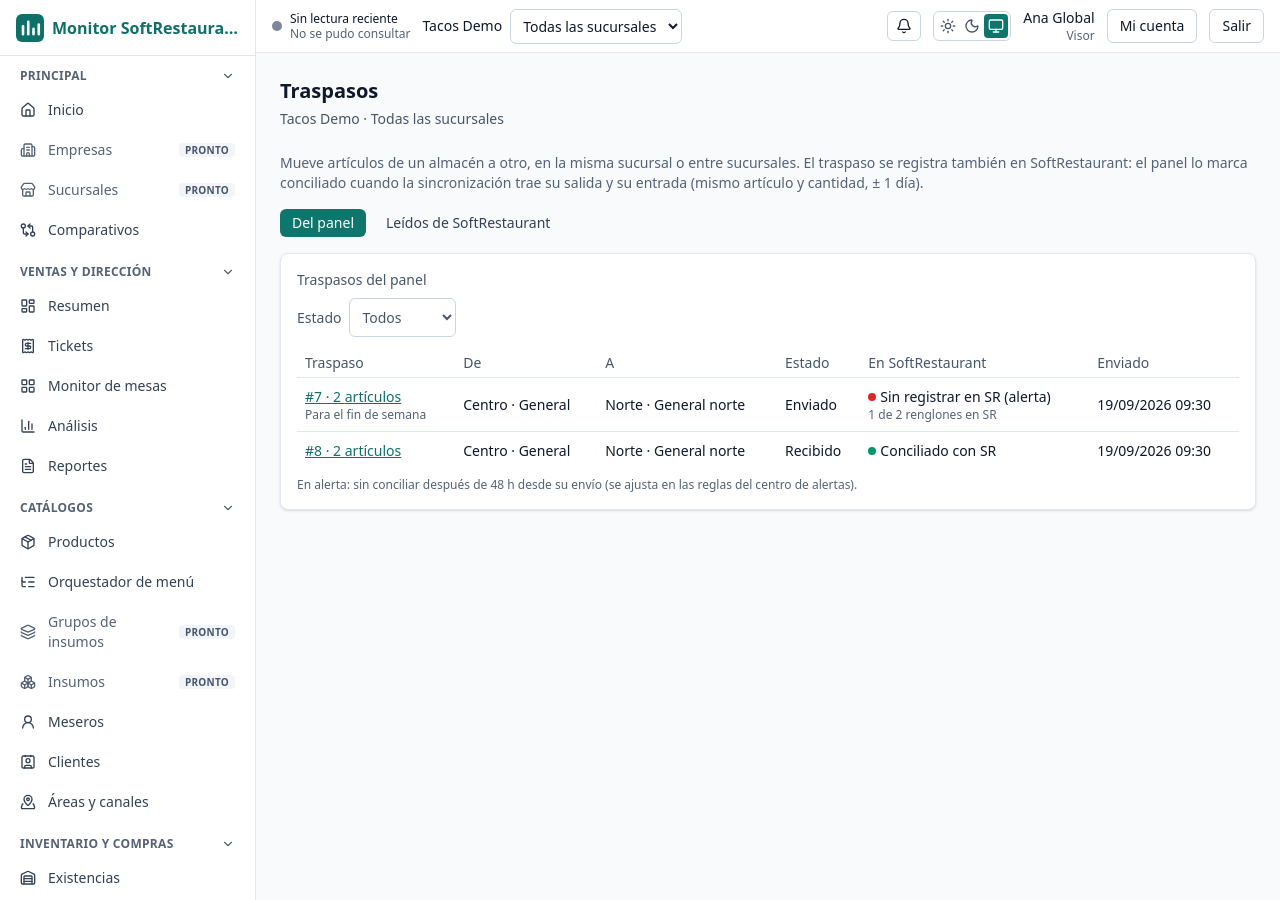
Test case: Traspasos (F2-124) · lista › leídos de SR sin nada todavía: explica de dónde llegarían
The image size is (1280, 900).
Click the tab "Leídos de SoftRestaurant": coordinates (468, 223) [374,209,562,237]
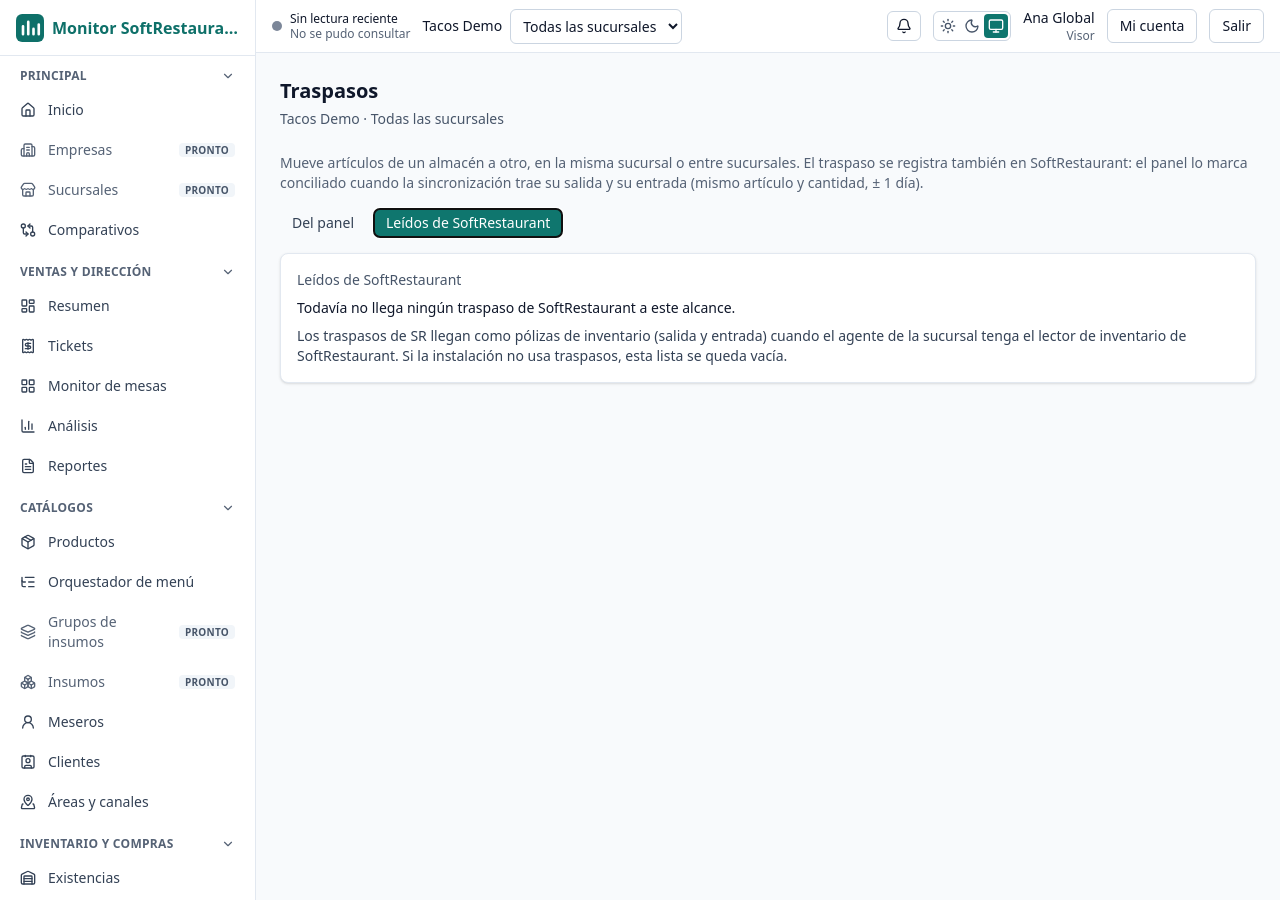
Now the element with test id "traspasos-sr-vacio" shows "Todavía no llega ningún traspaso de SoftRestaurant", box [297,298,735,317]
Now the element with test id "traspasos-sr-vacio" shows "Si la instalación no usa traspasos", box [297,326,1186,365]
